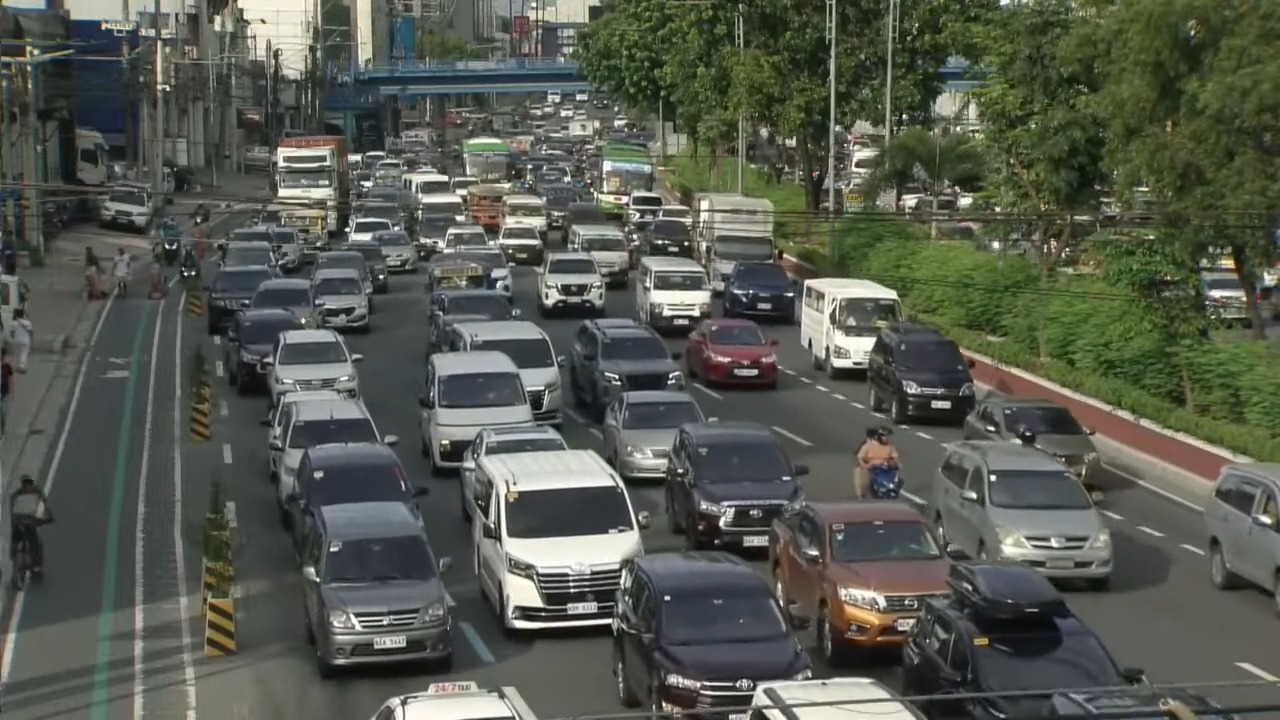bus: (594, 141, 653, 217), (464, 137, 512, 183)
car: (902, 561, 1145, 718), (612, 551, 811, 711), (768, 500, 950, 666), (927, 440, 1113, 590), (302, 502, 452, 677), (664, 422, 808, 549), (269, 398, 396, 528), (290, 439, 428, 556), (419, 350, 533, 471), (963, 395, 1101, 489), (442, 319, 563, 426), (568, 318, 684, 417), (1204, 463, 1279, 608), (867, 322, 974, 423), (460, 426, 569, 522), (601, 390, 706, 480), (261, 328, 362, 404), (223, 307, 304, 394), (684, 318, 778, 388), (1043, 685, 1236, 719), (373, 681, 536, 719), (426, 289, 519, 354), (205, 267, 275, 334), (261, 390, 343, 447), (537, 252, 605, 316), (723, 262, 796, 321), (311, 268, 370, 332), (249, 278, 320, 326), (452, 245, 512, 301), (630, 218, 694, 265), (314, 250, 374, 295), (99, 183, 153, 232), (341, 242, 389, 293), (416, 212, 456, 259), (373, 230, 416, 272), (498, 225, 544, 264), (271, 226, 303, 273), (441, 223, 491, 252), (222, 241, 277, 267), (219, 224, 274, 249), (563, 201, 607, 231), (347, 217, 395, 241), (658, 204, 692, 225)
motorcycle: (11, 517, 51, 591), (868, 463, 902, 499), (179, 250, 199, 279), (162, 237, 180, 266)
truck: (274, 135, 349, 236), (698, 196, 775, 293), (570, 119, 597, 140)
